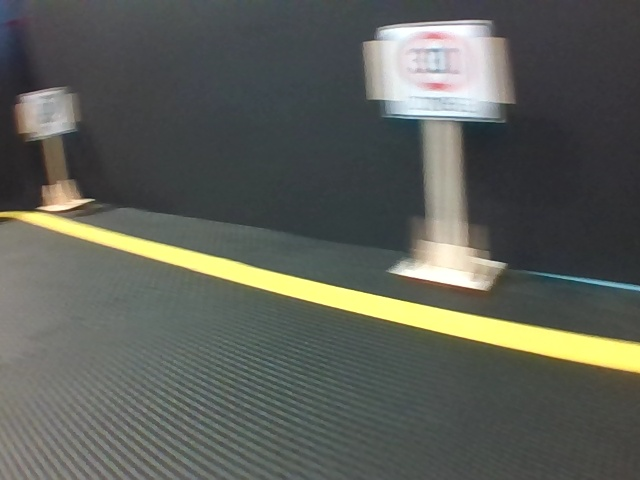30: (380, 23, 494, 118)
no30: (19, 91, 71, 133)
